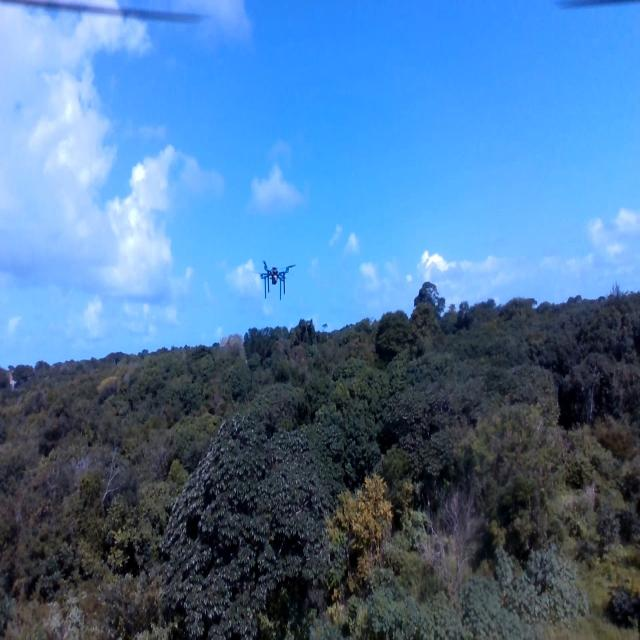-uav-: (252, 252, 300, 306)
